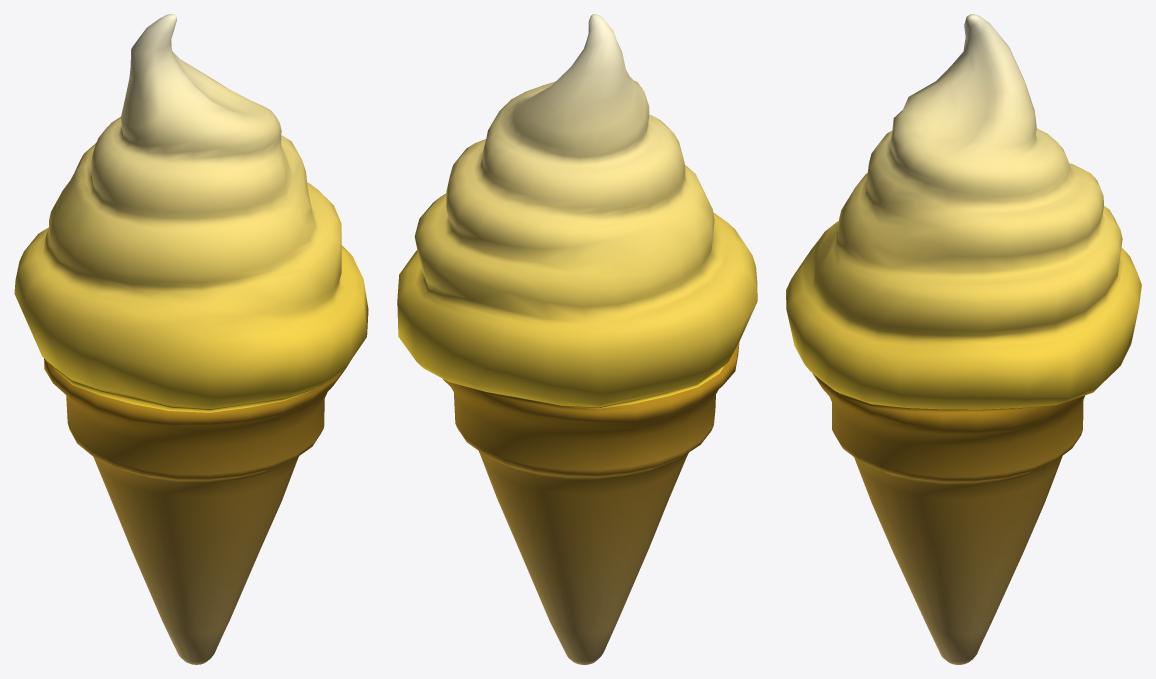
Rendered from IceCream_0001_0002.fbx.
3 views of the same model, side by side, from view 1: azimuth 30°, elevation 25°; view 2: azimuth 150°, elevation 25°; view 3: azimuth 270°, elevation 25° (orthographic). The views are drawn at different scales.
Parts seen in each view (by area): view 1: Ice_0001_0002; view 2: Ice_0001_0002; view 3: Ice_0001_0002.
Boxes of the visible parts, x1,y1,x2,y2 form: Ice_0001_0002: (14, 14, 368, 664); Ice_0001_0002: (397, 14, 757, 664); Ice_0001_0002: (786, 14, 1141, 664).
Bounding box in the file's own units: 0.0883 × 0.1786 × 0.0901.
1 material, 1 textured.
